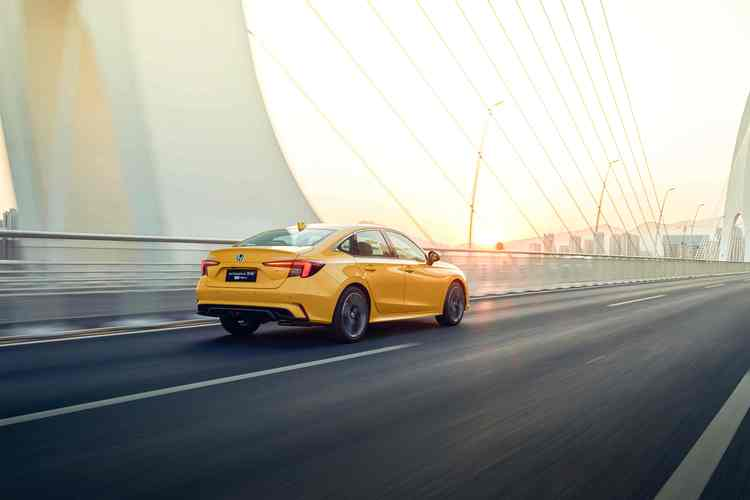汽车: (196, 220, 475, 341)
